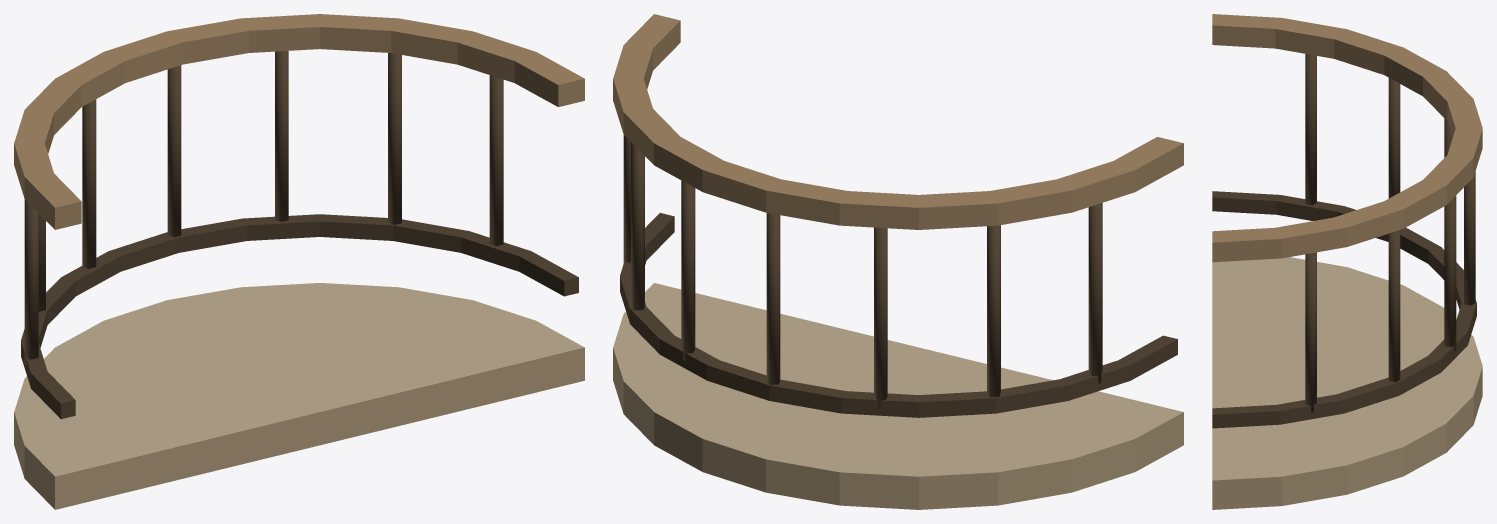
The model's file is lookout_semicircle_2m.glb.
3 renders of one model, left to right at view 1: azimuth 30°, elevation 25°; view 2: azimuth 150°, elevation 25°; view 3: azimuth 270°, elevation 25°, orthographic. The views are drawn at different scales.
Visible parts, largest first — view 1: lookout_semicircle_2m; view 2: lookout_semicircle_2m; view 3: lookout_semicircle_2m.
Part boxes in pixels (x1,y1,x2,y2): lookout_semicircle_2m: (14,14,584,509); lookout_semicircle_2m: (613,14,1183,509); lookout_semicircle_2m: (1212,14,1482,509).
Size of the model in its own units: 2 by 1.09 by 1.
